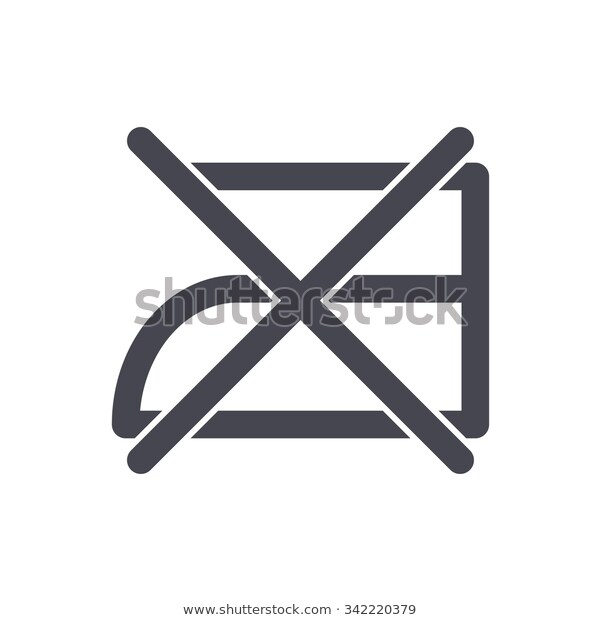do_not_iron: (113, 125, 490, 475)
